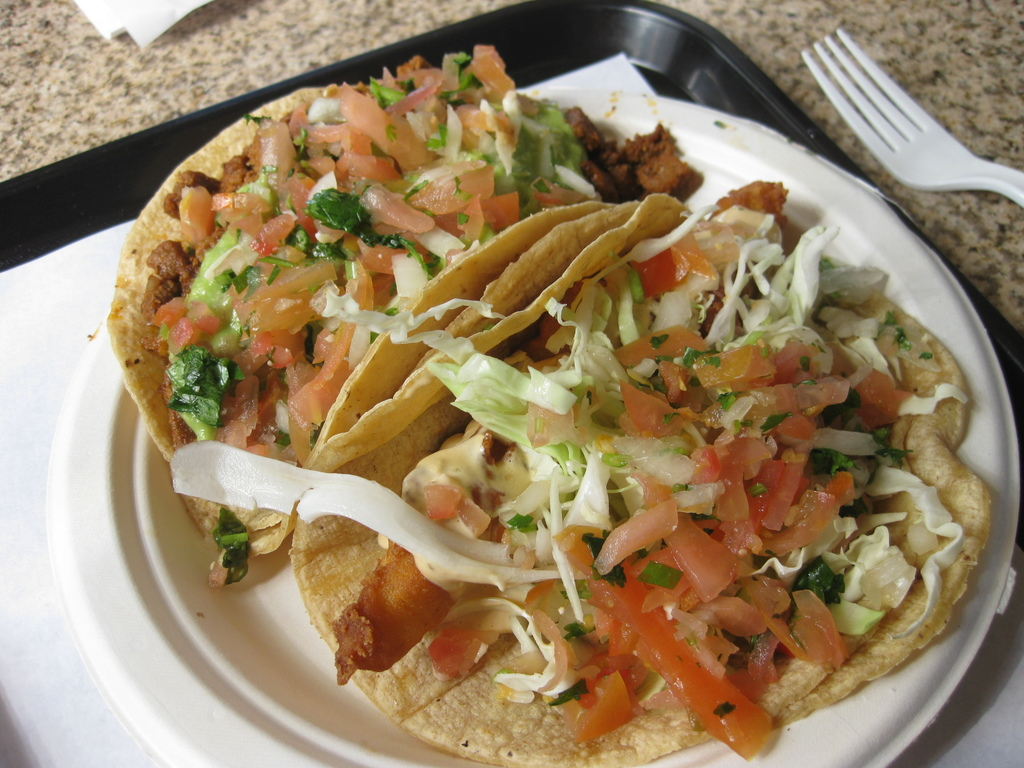taco: (289, 193, 990, 767), (102, 72, 679, 557)
